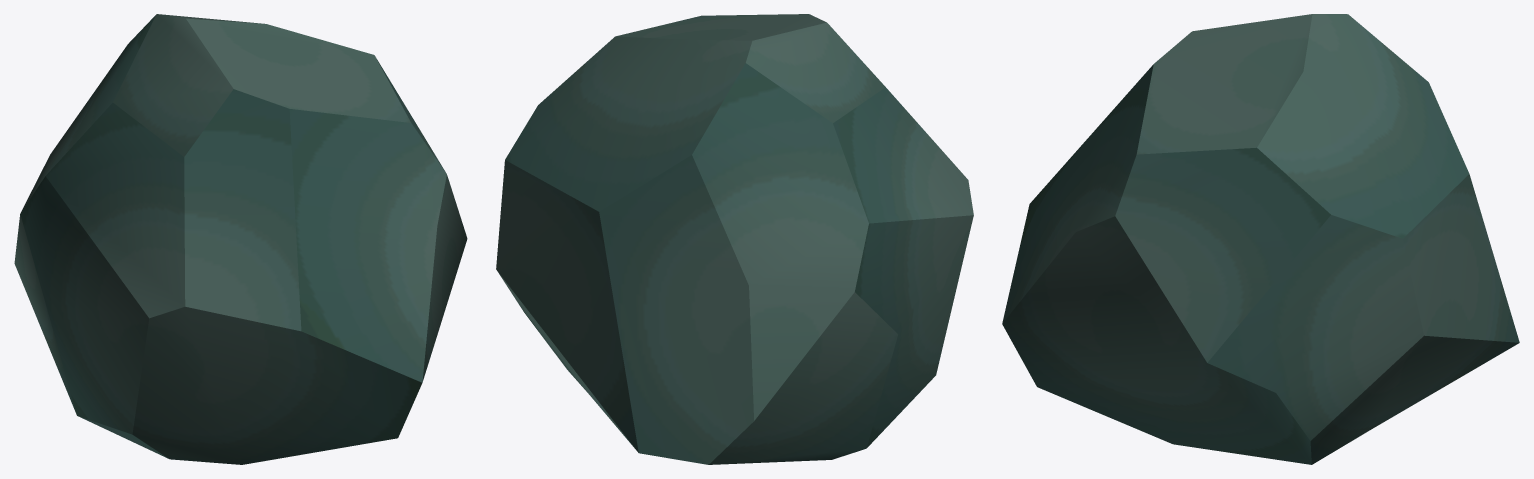
File: Rock8.FBX
3 views of the same model, side by side, from view 1: azimuth 30°, elevation 25°; view 2: azimuth 150°, elevation 25°; view 3: azimuth 270°, elevation 25° (orthographic). The views are drawn at different scales.
Visible parts, largest first — view 1: Rock_2; view 2: Rock_2; view 3: Rock_2.
Boxes of the visible parts, x1,y1,x2,y2 form: Rock_2: [14, 14, 467, 464]; Rock_2: [496, 14, 973, 464]; Rock_2: [1002, 14, 1519, 464].
Bounding box in the file's own units: 41.58 × 39.61 × 48.46.
